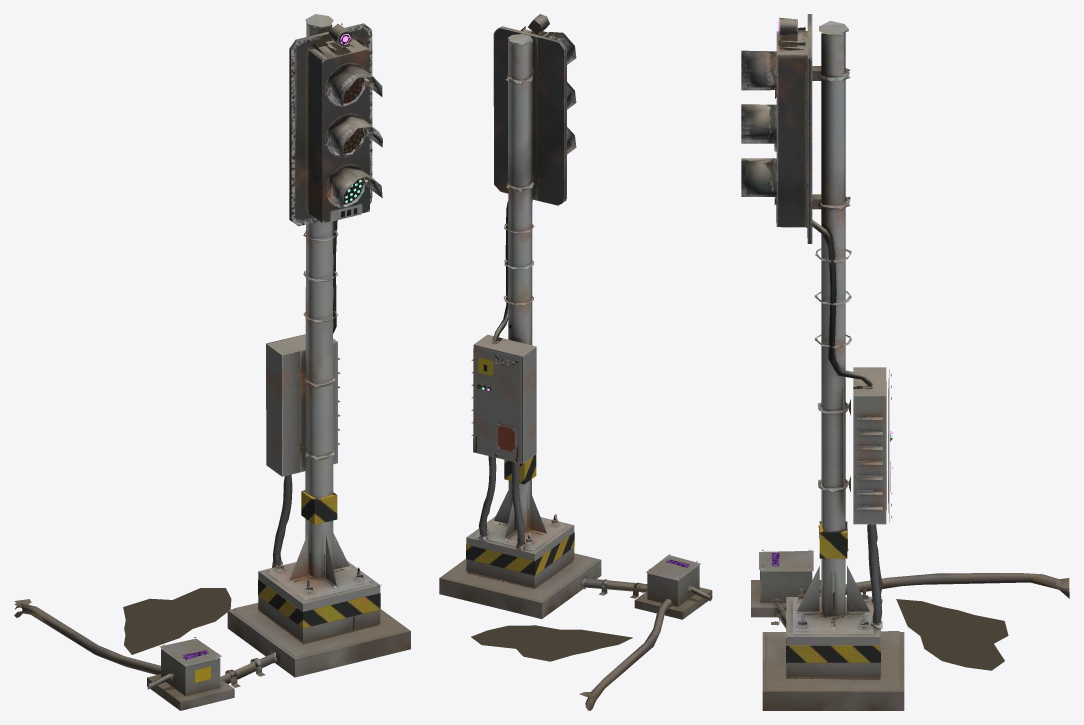
The model's file is sinal_trem.glb.
3 renders of one model, left to right at view 1: azimuth 30°, elevation 25°; view 2: azimuth 150°, elevation 25°; view 3: azimuth 270°, elevation 25°, orthographic. The views are drawn at different scales.
Visible parts, largest first — view 1: sinal_trem_corpo; view 2: sinal_trem_corpo; view 3: sinal_trem_corpo.
Part boxes in pixels (x1,y1,x2,y2): sinal_trem_corpo: (14, 14, 410, 710); sinal_trem_corpo: (439, 14, 712, 710); sinal_trem_corpo: (741, 14, 1069, 710).
Bounding box in the file's own units: 0.6509 × 1.59 × 0.6952.
Materials: 3 (1 with a texture image).
